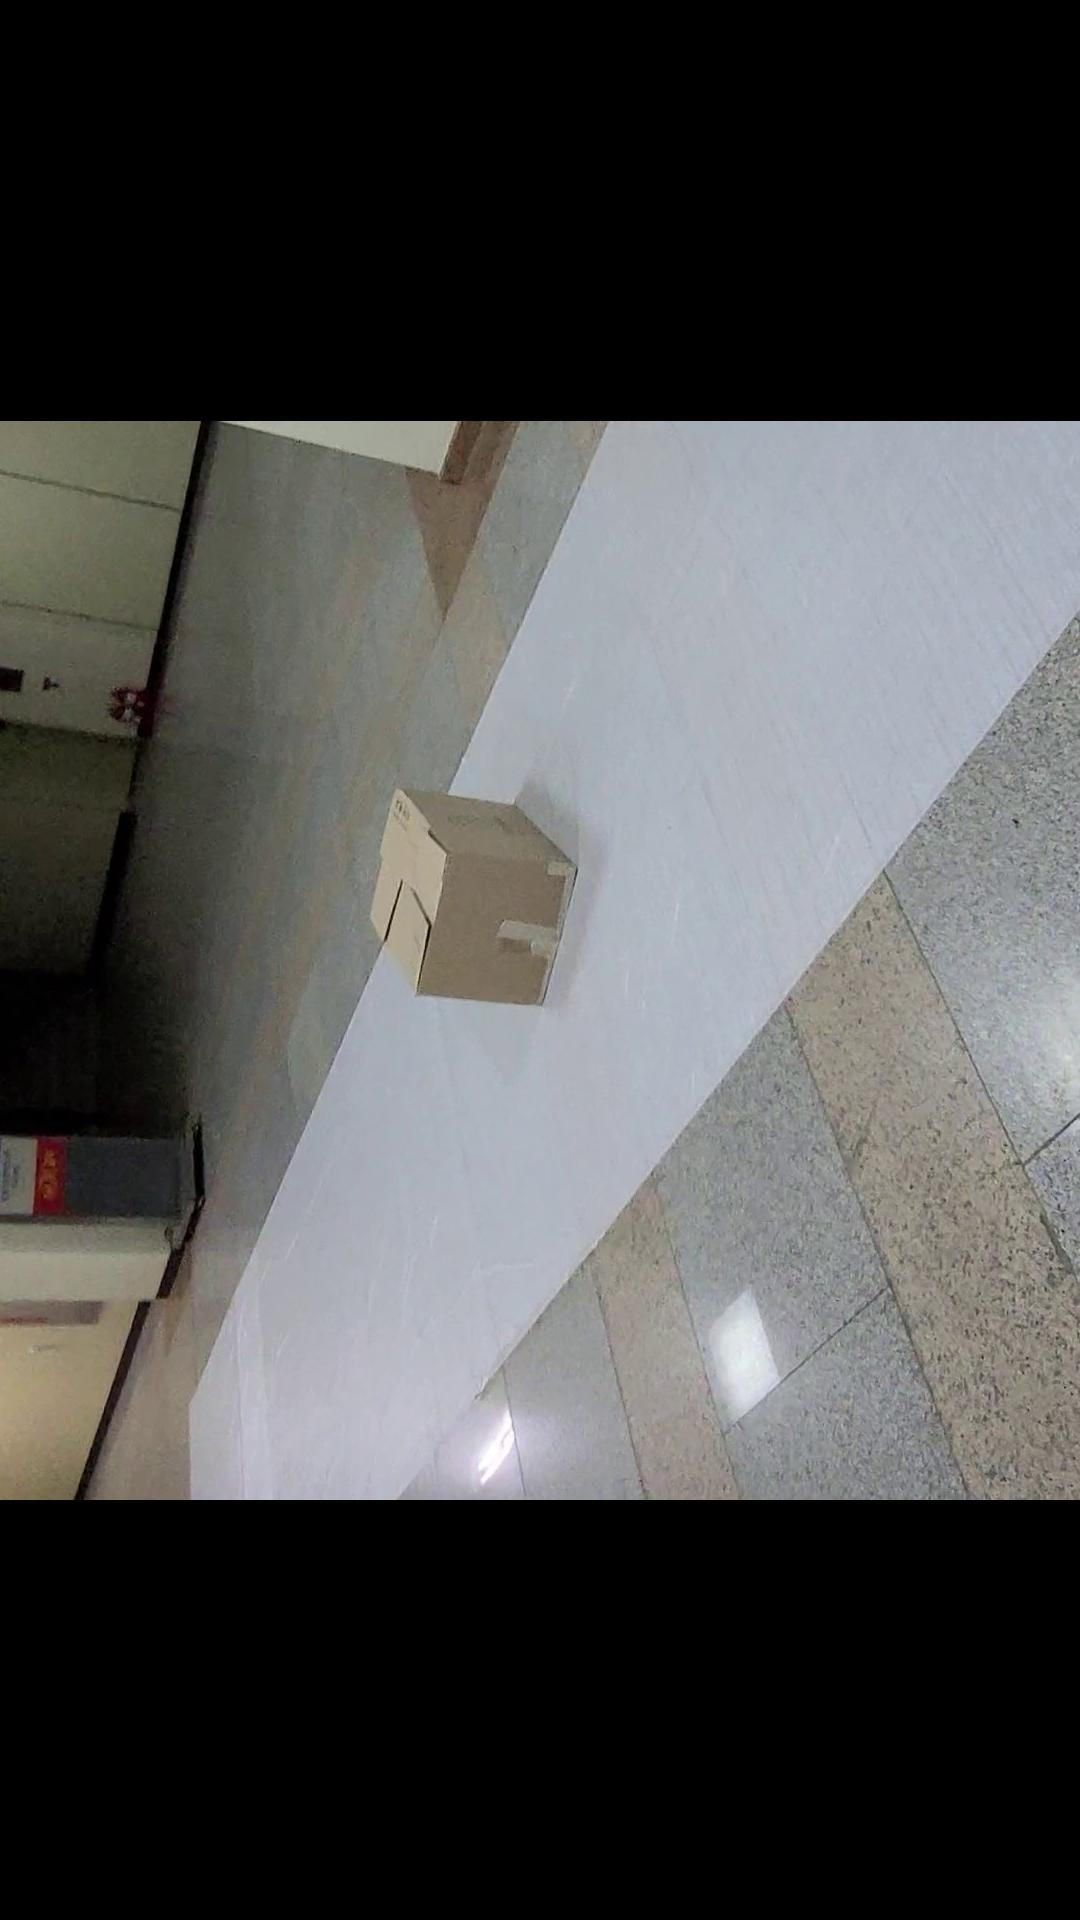Box: (355, 773, 592, 1027)
